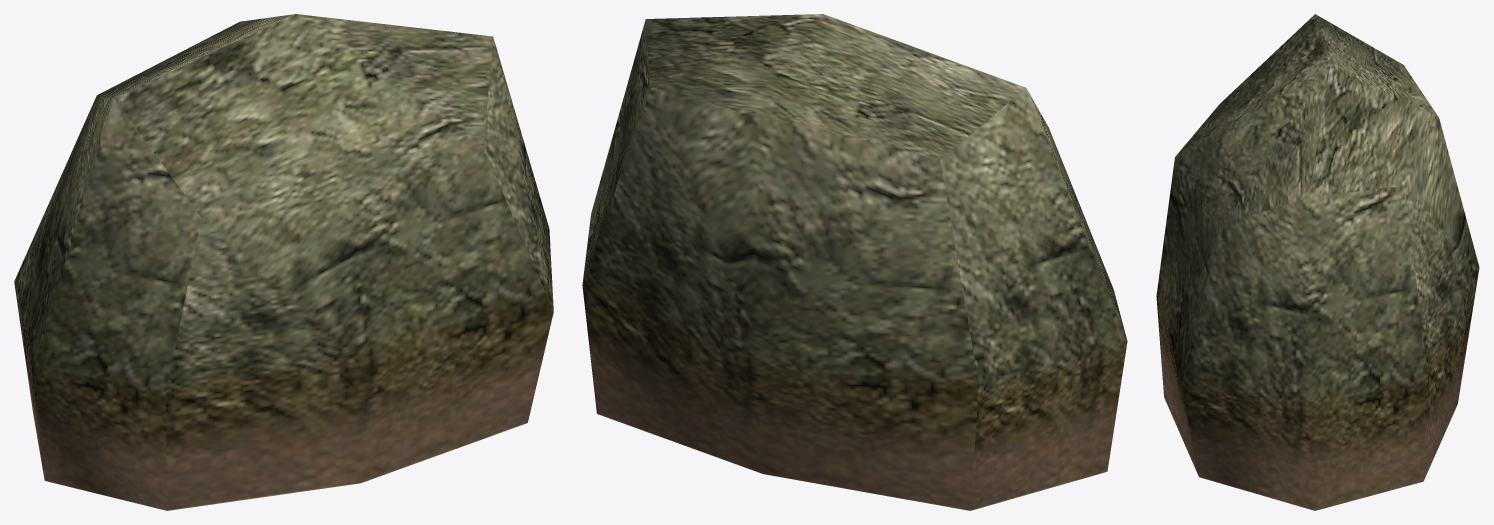
File: nast5.dae
The picture shows the model from 3 angles, left to right: view 1: azimuth 30°, elevation 25°; view 2: azimuth 150°, elevation 25°; view 3: azimuth 270°, elevation 25°; orthographic projection. The views are drawn at different scales.
Visible parts, largest first — view 1: stone05; view 2: stone05; view 3: stone05.
Part boxes in pixels (left/top/right/bottom): stone05: left=14, top=14, right=553, bottom=510; stone05: left=582, top=14, right=1127, bottom=510; stone05: left=1156, top=14, right=1479, bottom=510.
Size of the model in its own units: 3.61 by 2.23 by 2.61.
1 material, 1 textured.
